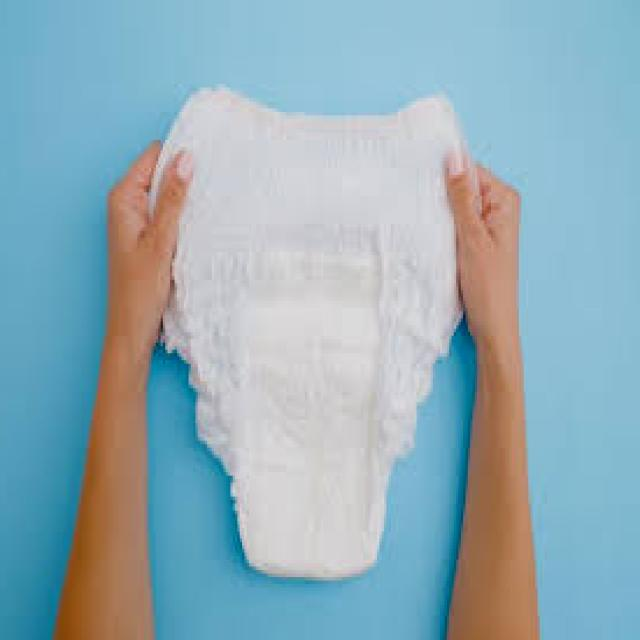B3: (156, 86, 487, 585)
